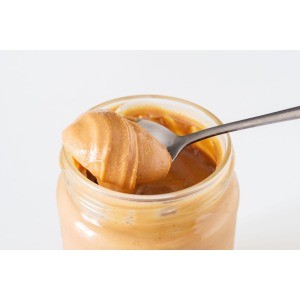peanut butter_brain food: (79, 111, 163, 191)
